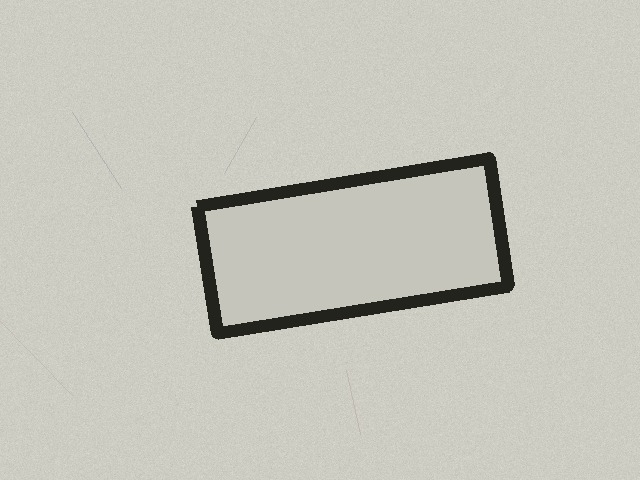parking_area: (197, 158, 508, 333)
